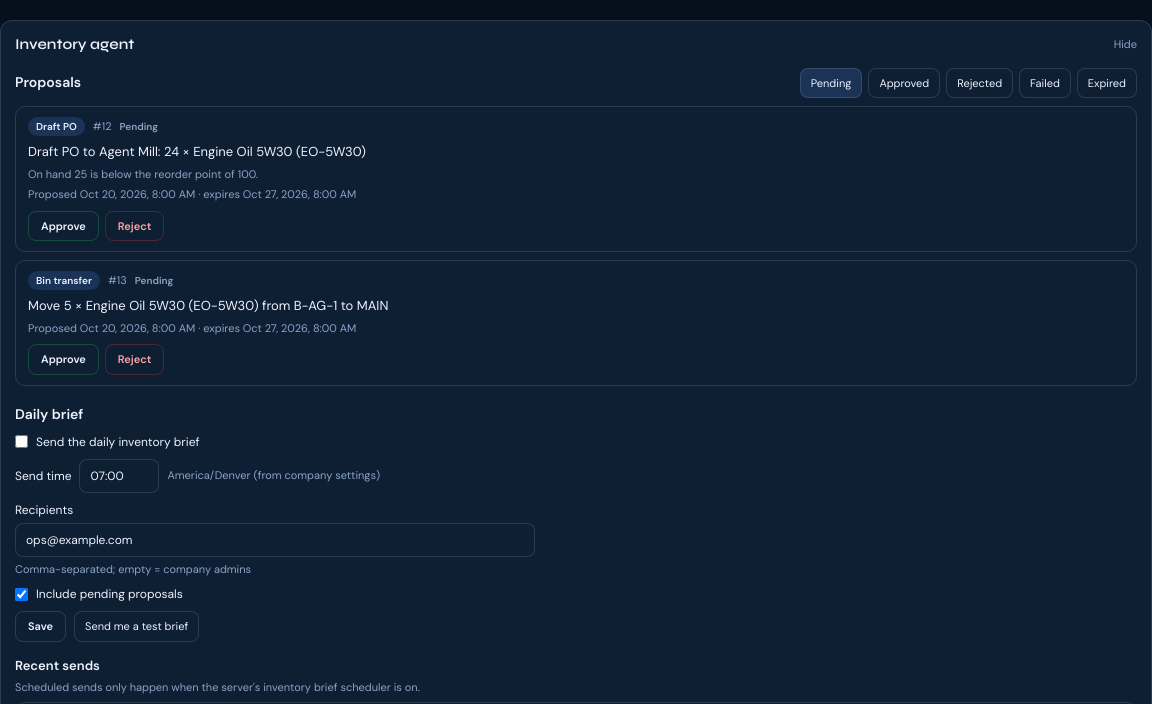
Scenario: InventoryAgentPanel › shows the backend detail when approve is refused
Click the button "Approve" below "12" at (63,226), box [28,210,99,241]
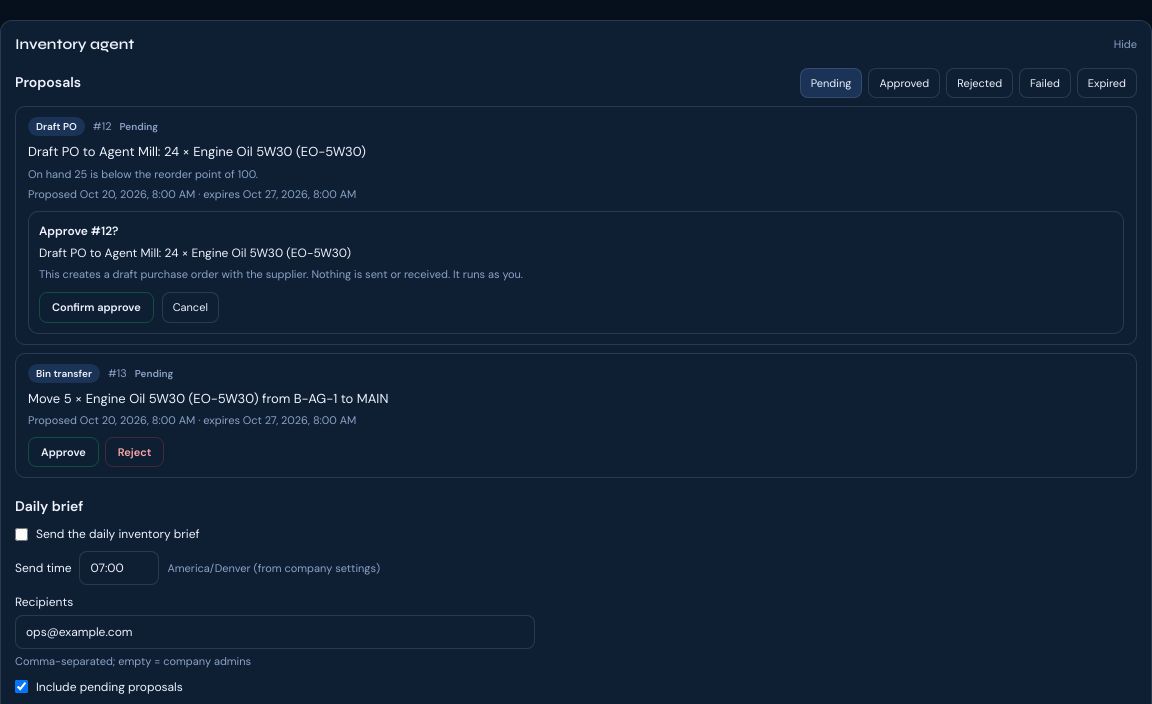
Click the button "Confirm approve" at (96,307), box [39,292,154,322]
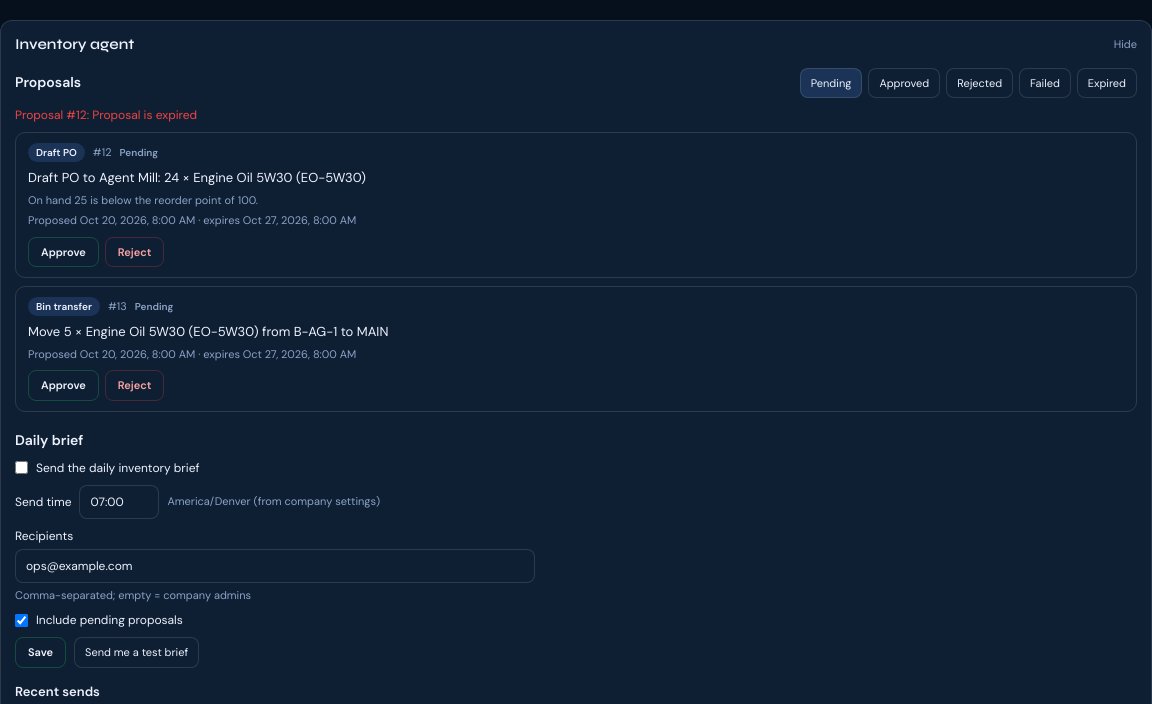
Expected: the message "Proposal #12: Proposal is expired" is shown, [15,107,197,123]
